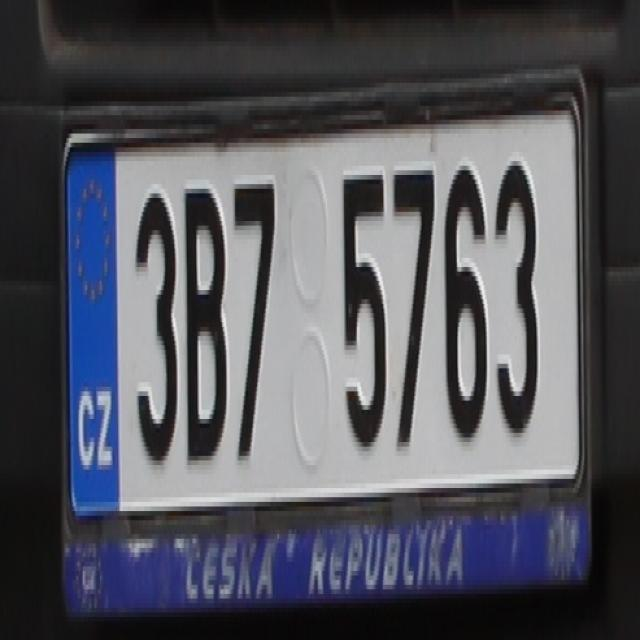3: (496, 156, 540, 438), (135, 184, 178, 451)
5: (338, 166, 390, 460)
6: (443, 156, 489, 438)
7: (391, 147, 439, 460), (228, 170, 278, 470)
B: (182, 180, 227, 460)
